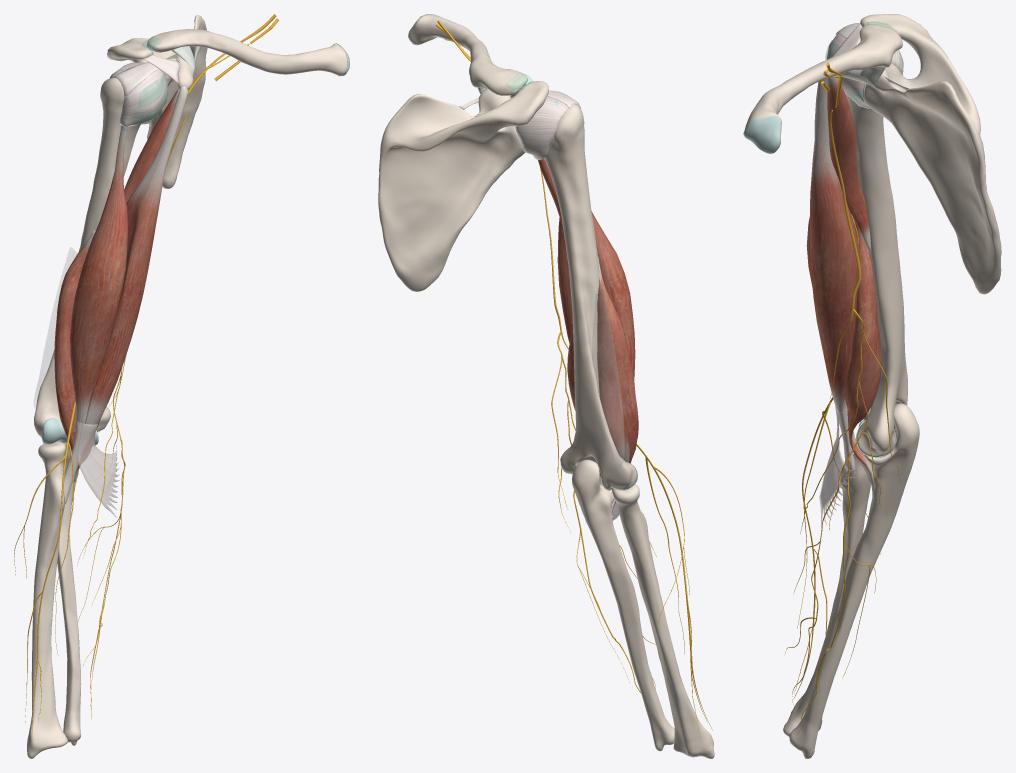
The model's file is musculocutaneous-nerve.glb.
3 views of the same model, side by side, from view 1: azimuth 30°, elevation 25°; view 2: azimuth 150°, elevation 25°; view 3: azimuth 270°, elevation 25° (orthographic). The views are drawn at different scales.
Parts seen in each view (by area): view 1: Long head of biceps brachii.r, Short head of biceps brachii.r, Radius.r, Humerus.r, Clavicle.r, Scapula.r, Ulna.r, Brachialis muscle.r, Bicipital aponeurosis.r, Articular capsule of glenohumeral joint.r, Medial antebrachial cutaneous nerve.r, Coracobrachialis muscle.r (+5 smaller); view 2: Scapula.r, Humerus.r, Ulna.r, Radius.r, Brachialis muscle.r, Clavicle.r, Lateral intermuscular septum of arm.r, Long head of biceps brachii.r, Articular capsule of glenohumeral joint.r, Medial antebrachial cutaneous nerve.r, Musculocutaneus nerve - lateral antebrachial cutaneous nerve, Short head of biceps brachii.r; view 3: Scapula.r, Humerus.r, Short head of biceps brachii.r, Ulna.r, Brachialis muscle.r, Clavicle.r, Coracobrachialis muscle.r, Radius.r, Medial antebrachial cutaneous nerve.r, Bicipital aponeurosis.r, Musculocutaneus nerve - lateral antebrachial cutaneous nerve, Art cart of sternoclavicular joint on clavicle.r (+2 smaller).
Part boxes in pixels (<box>): Long head of biceps brachii.r: <box>70,125,128,423</box>; Short head of biceps brachii.r: <box>85,86,188,424</box>; Radius.r: <box>27,441,67,758</box>; Humerus.r: <box>34,77,140,438</box>; Clavicle.r: <box>147,29,347,75</box>; Scapula.r: <box>106,15,207,188</box>; Ulna.r: <box>57,441,81,745</box>; Brachialis muscle.r: <box>54,230,102,481</box>; Bicipital aponeurosis.r: <box>77,423,119,517</box>; Articular capsule of glenohumeral joint.r: <box>109,62,168,127</box>; Medial antebrachial cutaneous nerve.r: <box>77,115,187,719</box>; Coracobrachialis muscle.r: <box>124,88,179,202</box>; Scapula.r: <box>378,81,548,291</box>; Humerus.r: <box>544,104,636,490</box>; Ulna.r: <box>572,460,674,751</box>; Radius.r: <box>612,484,714,758</box>; Brachialis muscle.r: <box>567,257,638,512</box>; Clavicle.r: <box>409,14,527,95</box>; Lateral intermuscular septum of arm.r: <box>592,288,624,466</box>; Long head of biceps brachii.r: <box>591,211,635,378</box>; Articular capsule of glenohumeral joint.r: <box>515,96,568,160</box>; Medial antebrachial cutaneous nerve.r: <box>540,167,656,692</box>; Musculocutaneus nerve - lateral antebrachial cutaneous nerve: <box>643,453,713,736</box>; Short head of biceps brachii.r: <box>557,217,572,343</box>; Scapula.r: <box>834,14,1001,294</box>; Humerus.r: <box>845,93,907,456</box>; Short head of biceps brachii.r: <box>810,79,859,412</box>; Ulna.r: <box>789,403,919,758</box>; Brachialis muscle.r: <box>844,223,881,486</box>; Clavicle.r: <box>745,24,902,137</box>; Coracobrachialis muscle.r: <box>827,76,871,251</box>; Radius.r: <box>783,420,870,736</box>; Medial antebrachial cutaneous nerve.r: <box>785,110,899,735</box>; Bicipital aponeurosis.r: <box>819,407,858,531</box>; Musculocutaneus nerve - lateral antebrachial cutaneous nerve: <box>793,397,880,698</box>; Art cart of sternoclavicular joint on clavicle.r: <box>743,115,780,153</box>.
Bounding box in the file's own units: 0.2782 × 0.5788 × 0.1651.
Materials: 17 (6 with a texture image).
